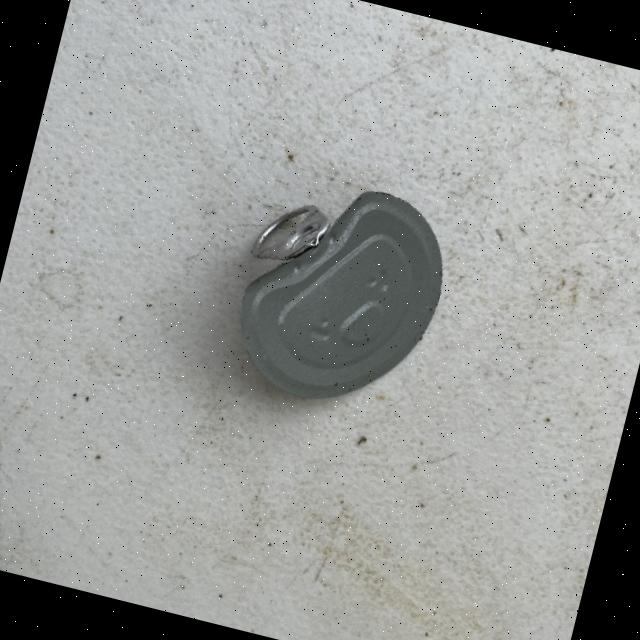metal: (219, 162, 461, 424)
